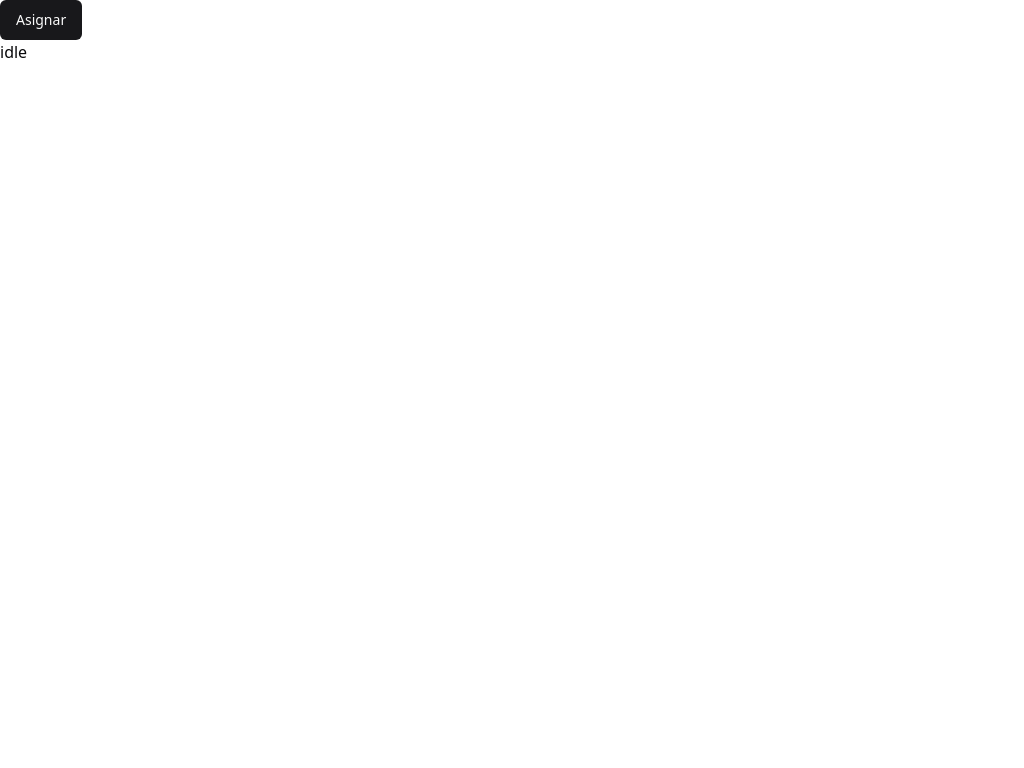
it: assign dialog confirmation flow › shows confirmation on already_assigned and cancel does not force
Click the button "Asignar": (41, 20) [0,0,82,40]
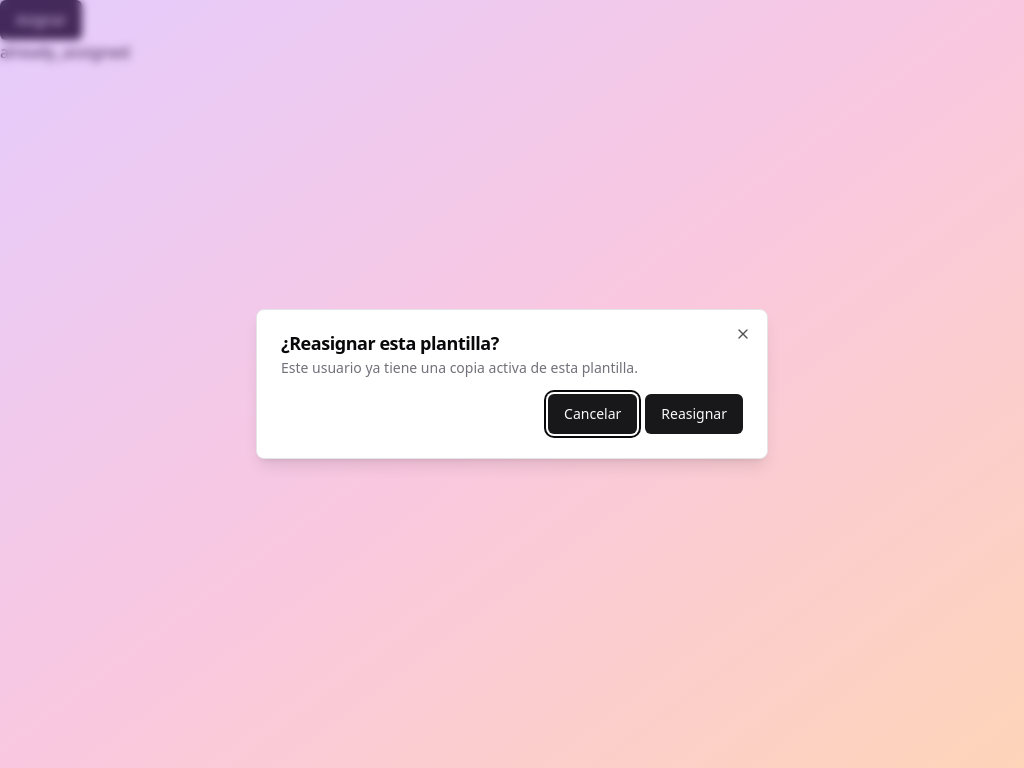
Check: the heading "¿Reasignar esta plantilla?" is shown, box [281,331,499,355]
Check: the text with test id "status" reads "already_assigned", box [0,41,130,63]
Click the button "Cancelar": (593, 414) [548,394,637,434]
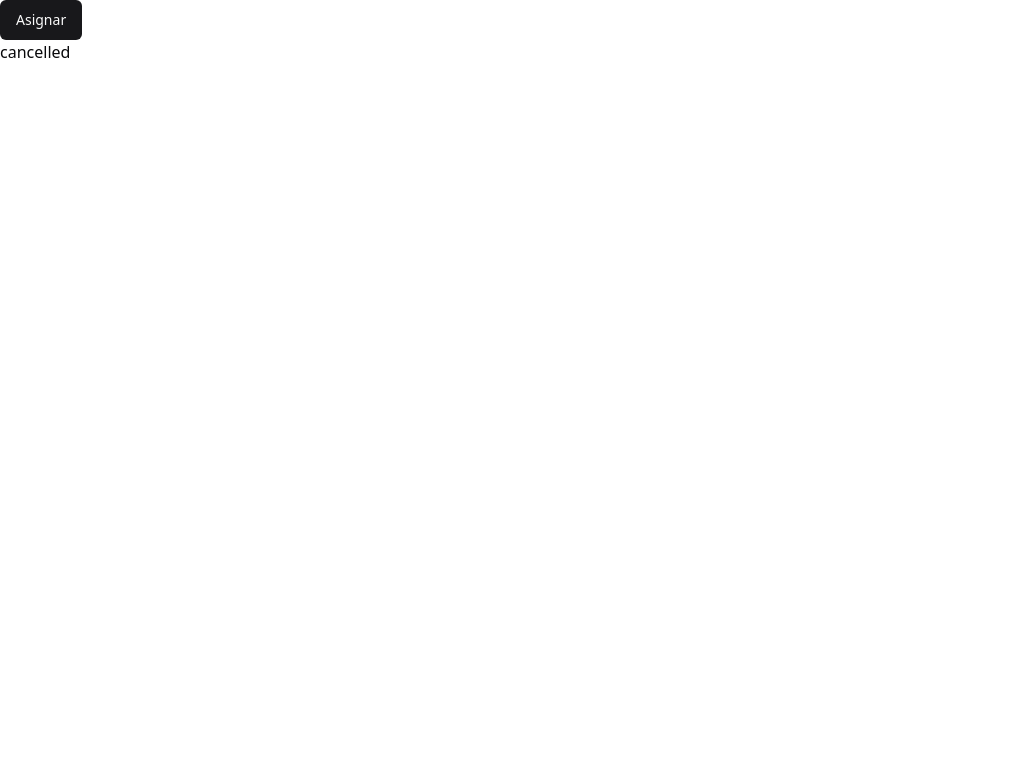
Check: the text with test id "status" reads "cancelled", box [0,41,70,63]
